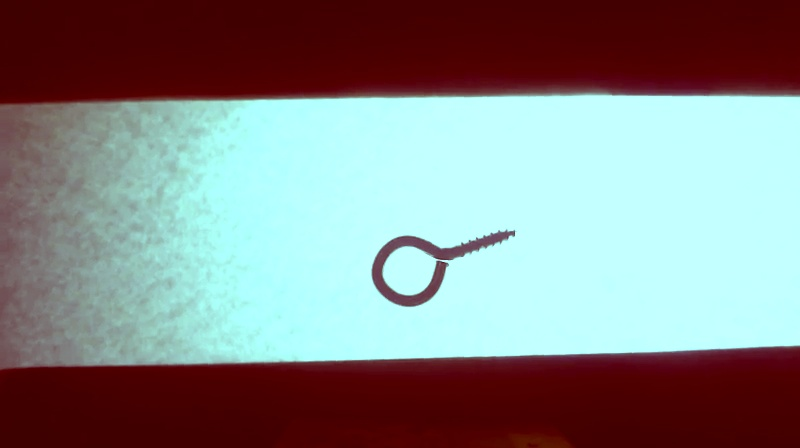O001: (366, 224, 520, 309)
